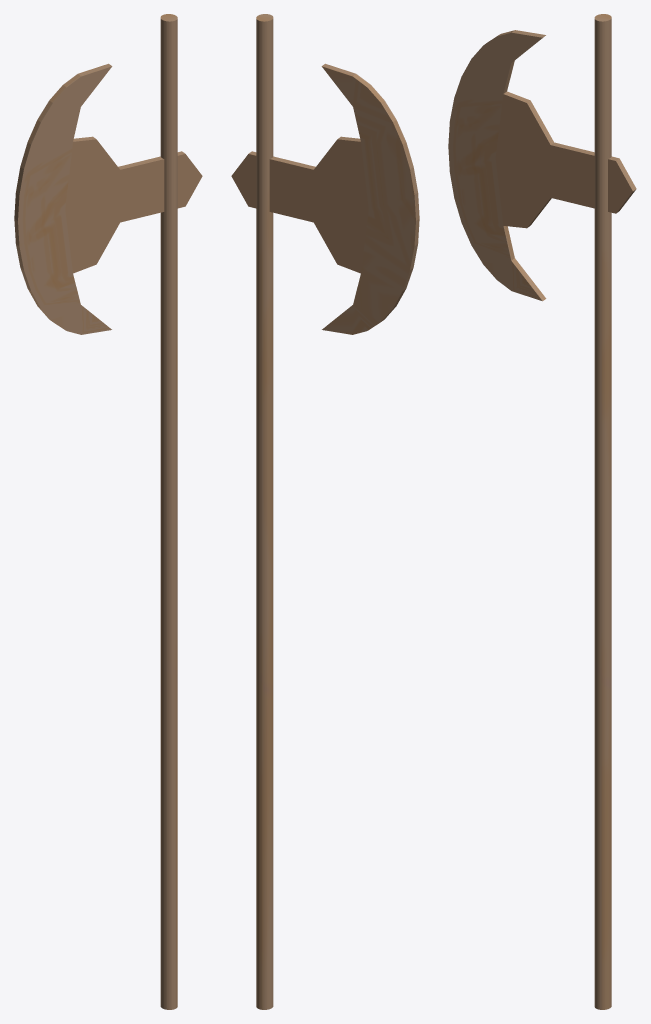
File: AxSpearManWeapon.obj
The picture shows the model from 3 angles, left to right: view 1: azimuth 30°, elevation 25°; view 2: azimuth 150°, elevation 25°; view 3: azimuth 330°, elevation 25°; orthographic projection.
Visible parts, largest first — view 1: 円柱; view 2: 円柱; view 3: 円柱.
Part boxes in pixels (box(x1,y1,x2,y2)): 円柱: box(14, 14, 202, 1009); 円柱: box(231, 14, 419, 1009); 円柱: box(448, 14, 636, 1009).
Size of the model in its own units: 1.17 by 6 by 0.1.
Materials: 1 (1 with a texture image).
